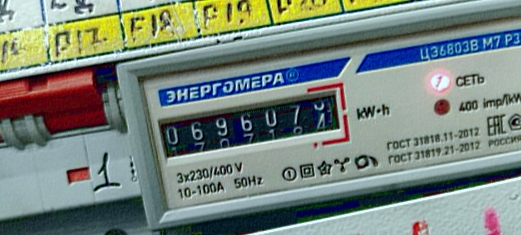0: (263, 104, 281, 128), (164, 122, 181, 145)
4: (314, 109, 330, 132)
6: (189, 117, 206, 140), (238, 110, 255, 132)
7: (288, 102, 306, 125)
9: (214, 114, 230, 137)
screen: (145, 78, 358, 169)
